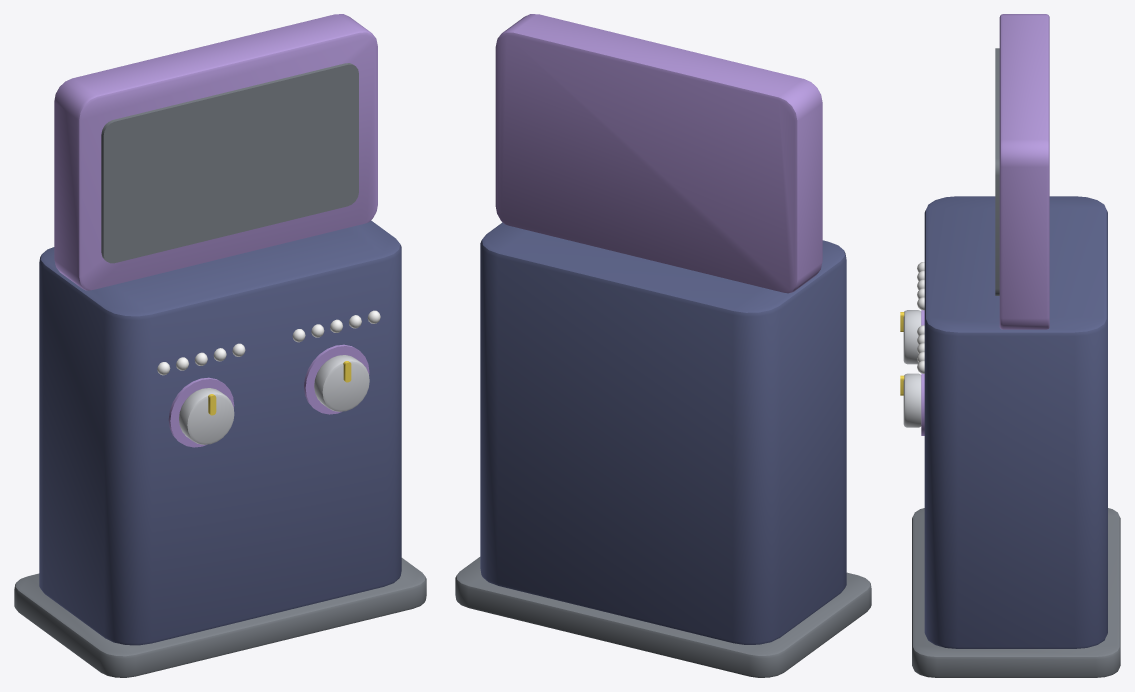
Rendered from SM_IncSignalConsole.fbx.
3 renders of one model, left to right at view 1: azimuth 30°, elevation 25°; view 2: azimuth 150°, elevation 25°; view 3: azimuth 270°, elevation 25°, orthographic. The views are drawn at different scales.
Visible parts, largest first — view 1: IncSignalConsole, Screen, Dial1, Dial0; view 2: IncSignalConsole; view 3: IncSignalConsole, Screen, Dial1, Dial0.
Boxes of the visible parts, box(x1,y1,x2,y2) form: IncSignalConsole: box(14, 14, 426, 677); Screen: box(101, 63, 358, 263); Dial1: box(314, 355, 369, 411); Dial0: box(179, 388, 234, 444); IncSignalConsole: box(455, 14, 871, 677); IncSignalConsole: box(912, 14, 1120, 677); Screen: box(995, 48, 999, 295); Dial1: box(900, 373, 921, 427); Dial0: box(900, 310, 921, 364).
Size of the model in its own units: 0.86 by 1.39 by 0.528.
